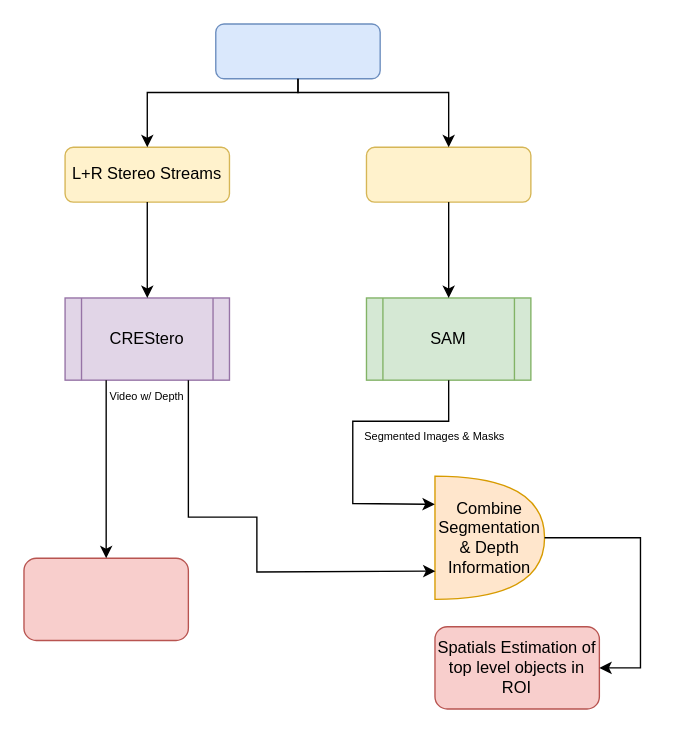
Image size: 675x733. Some labels were removed from this diagram. The shapes that lost their labels are listed below. From the top down, each one's box as (x1, y1, x2, y2) in pixels, then its label:
(214, 23, 380, 79): Video Input
(365, 146, 531, 202): RGB Stream
(23, 557, 188, 640): Spatials Estimation w/ Moving Cursor
